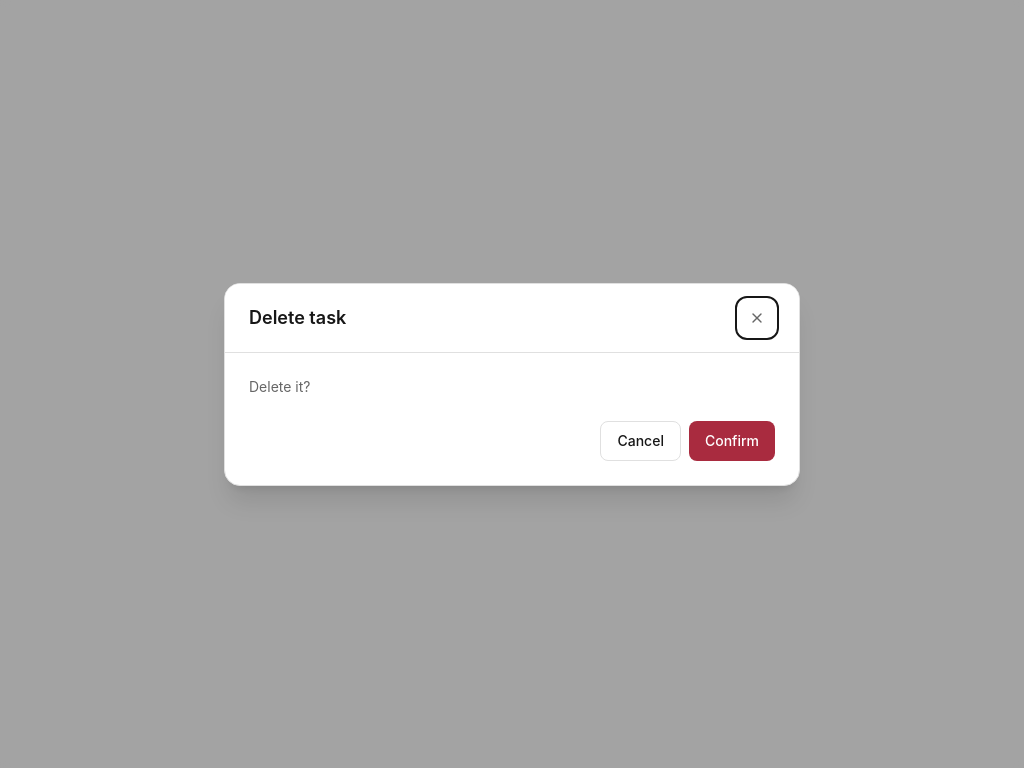
Test: announces a failed action and keeps the confirmation open for retry
Click the button "Confirm": (732,440) left=689, top=420, right=775, bottom=460
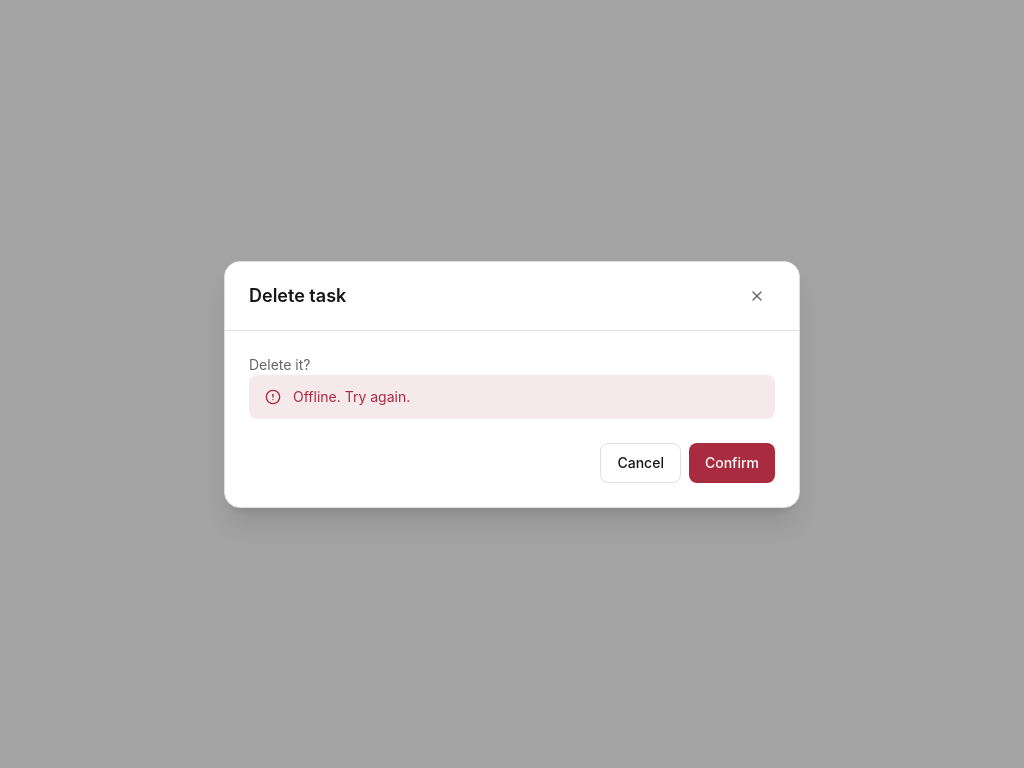
Expected: the button "Confirm" is enabled, left=689, top=442, right=775, bottom=482
Now the message reads "Offline. Try again.", box left=293, top=388, right=410, bottom=404
